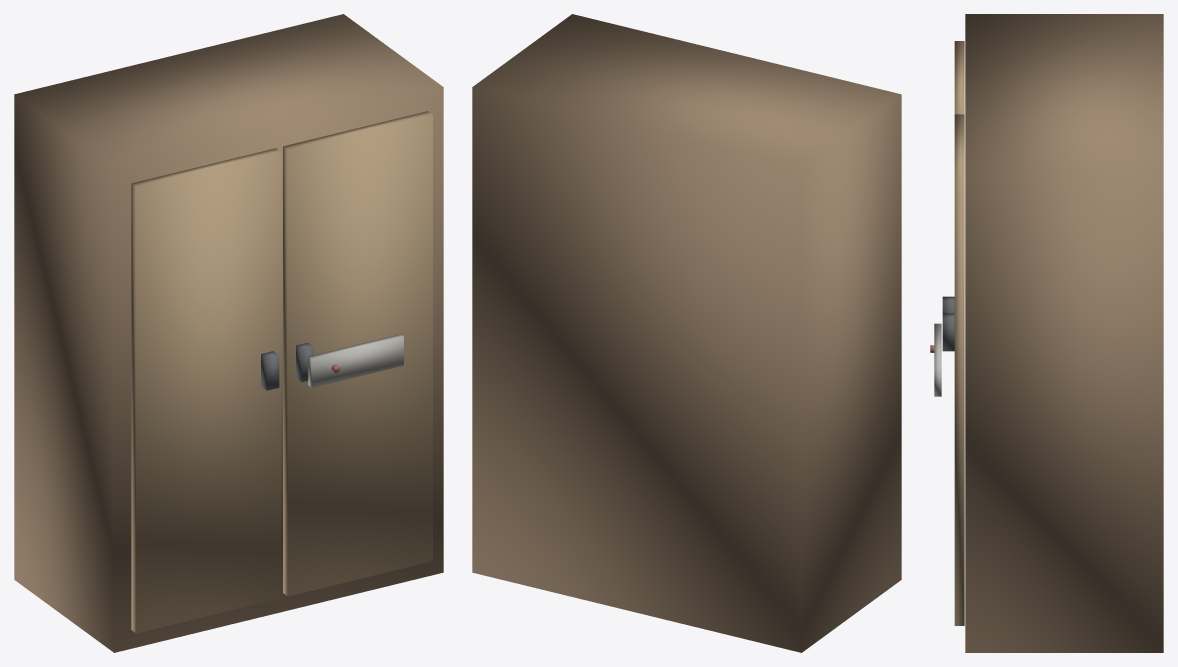
The model's file is photo_chemical_cabinet__reinforced.glb.
3 views of the same model, side by side, from view 1: azimuth 30°, elevation 25°; view 2: azimuth 150°, elevation 25°; view 3: azimuth 270°, elevation 25° (orthographic).
Visible parts, largest first — view 1: world; view 2: world; view 3: world.
Boxes of the visible parts, bbox=[...] form: world: bbox=[14, 14, 443, 652]; world: bbox=[472, 14, 901, 652]; world: bbox=[930, 14, 1163, 652].
Size of the model in its own units: 0.9785 by 1.38 by 0.6062.
